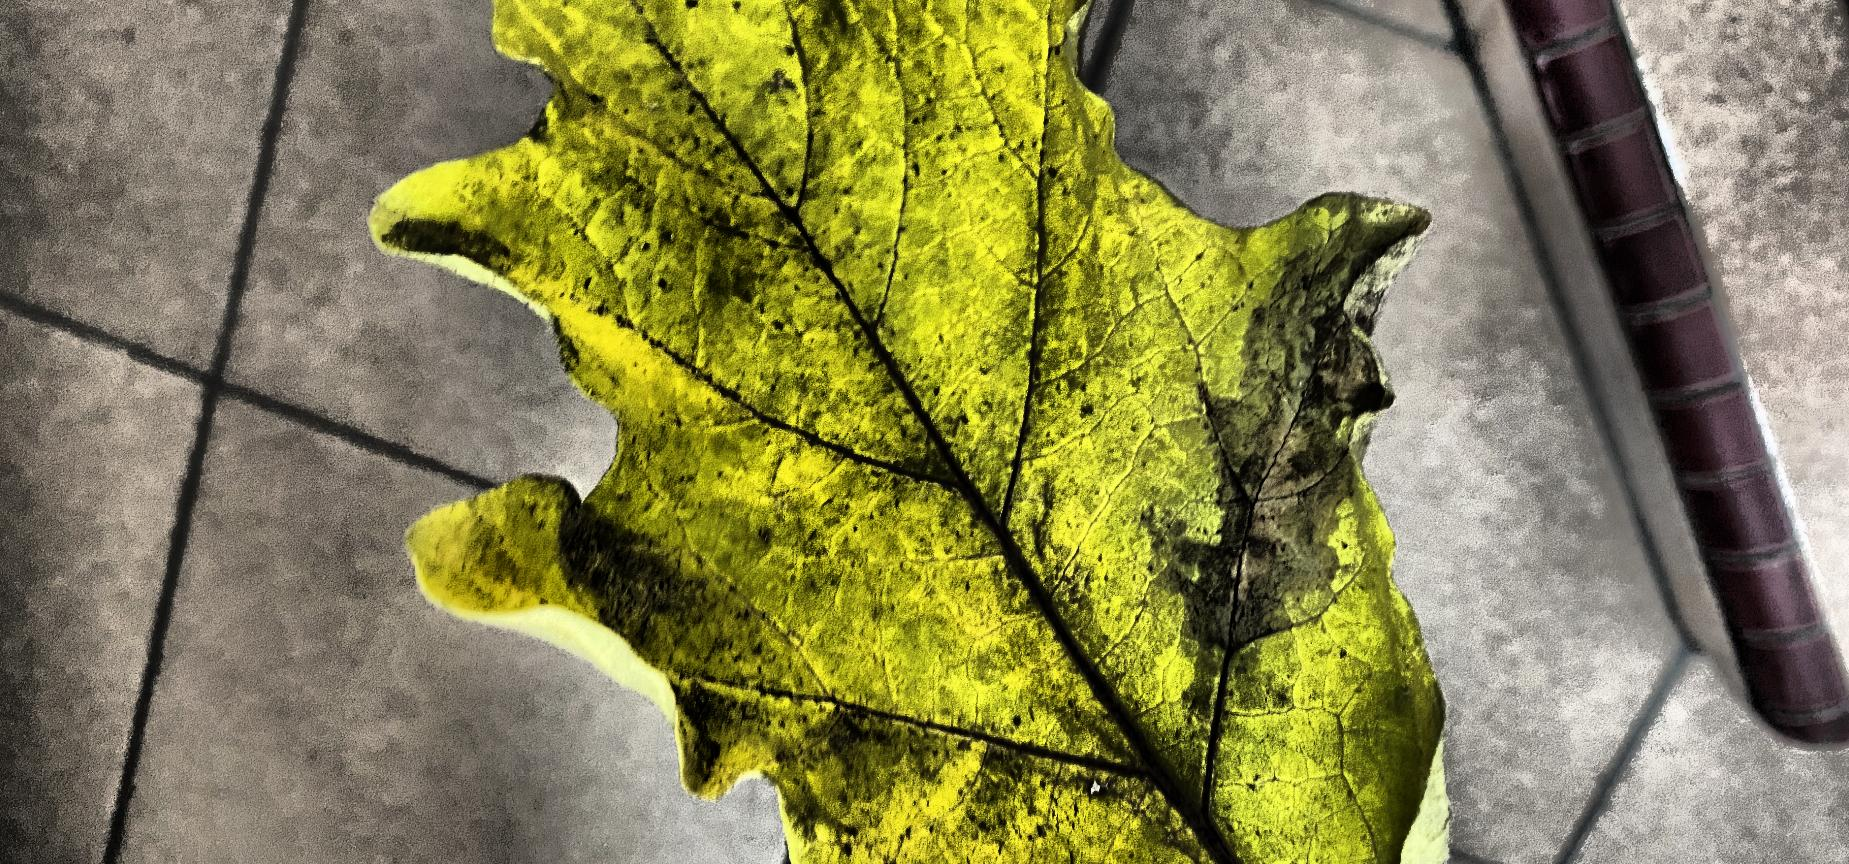Critical Stress: (0, 110, 1358, 864)
